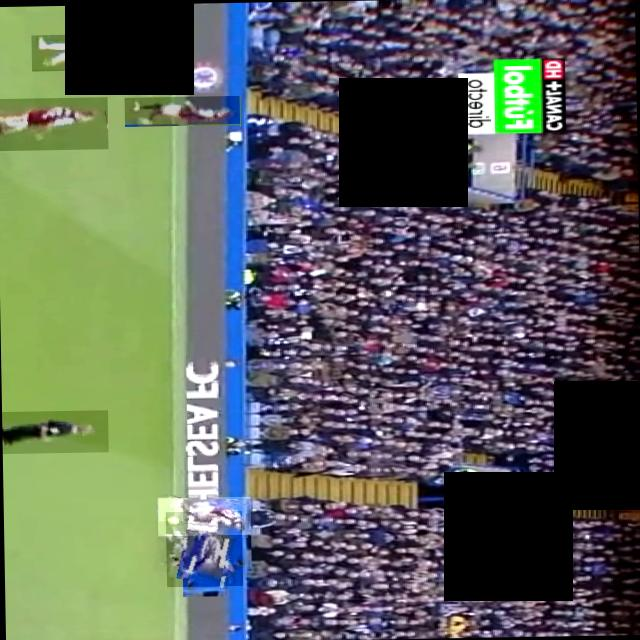ball: (158, 496, 182, 520)
referee: (2, 408, 108, 452)
soccer-player: (165, 510, 242, 586), (0, 95, 108, 149), (31, 32, 168, 70), (157, 495, 251, 535), (124, 94, 240, 126)
